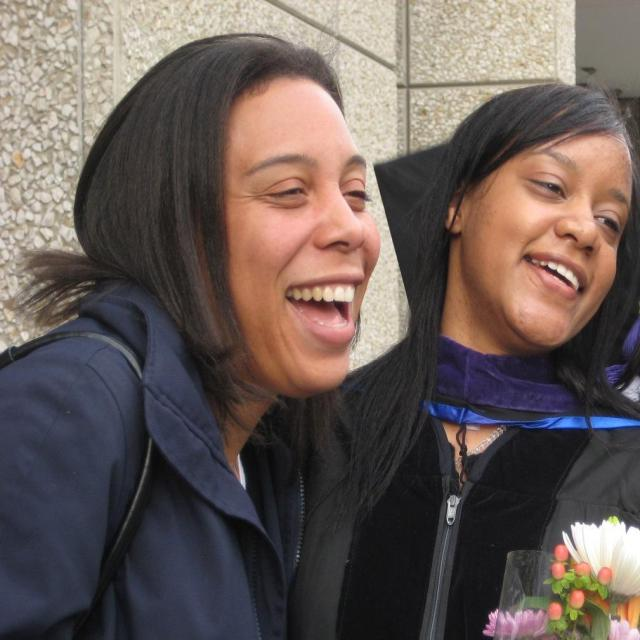no-glass: (535, 177, 625, 235), (262, 186, 377, 206)
